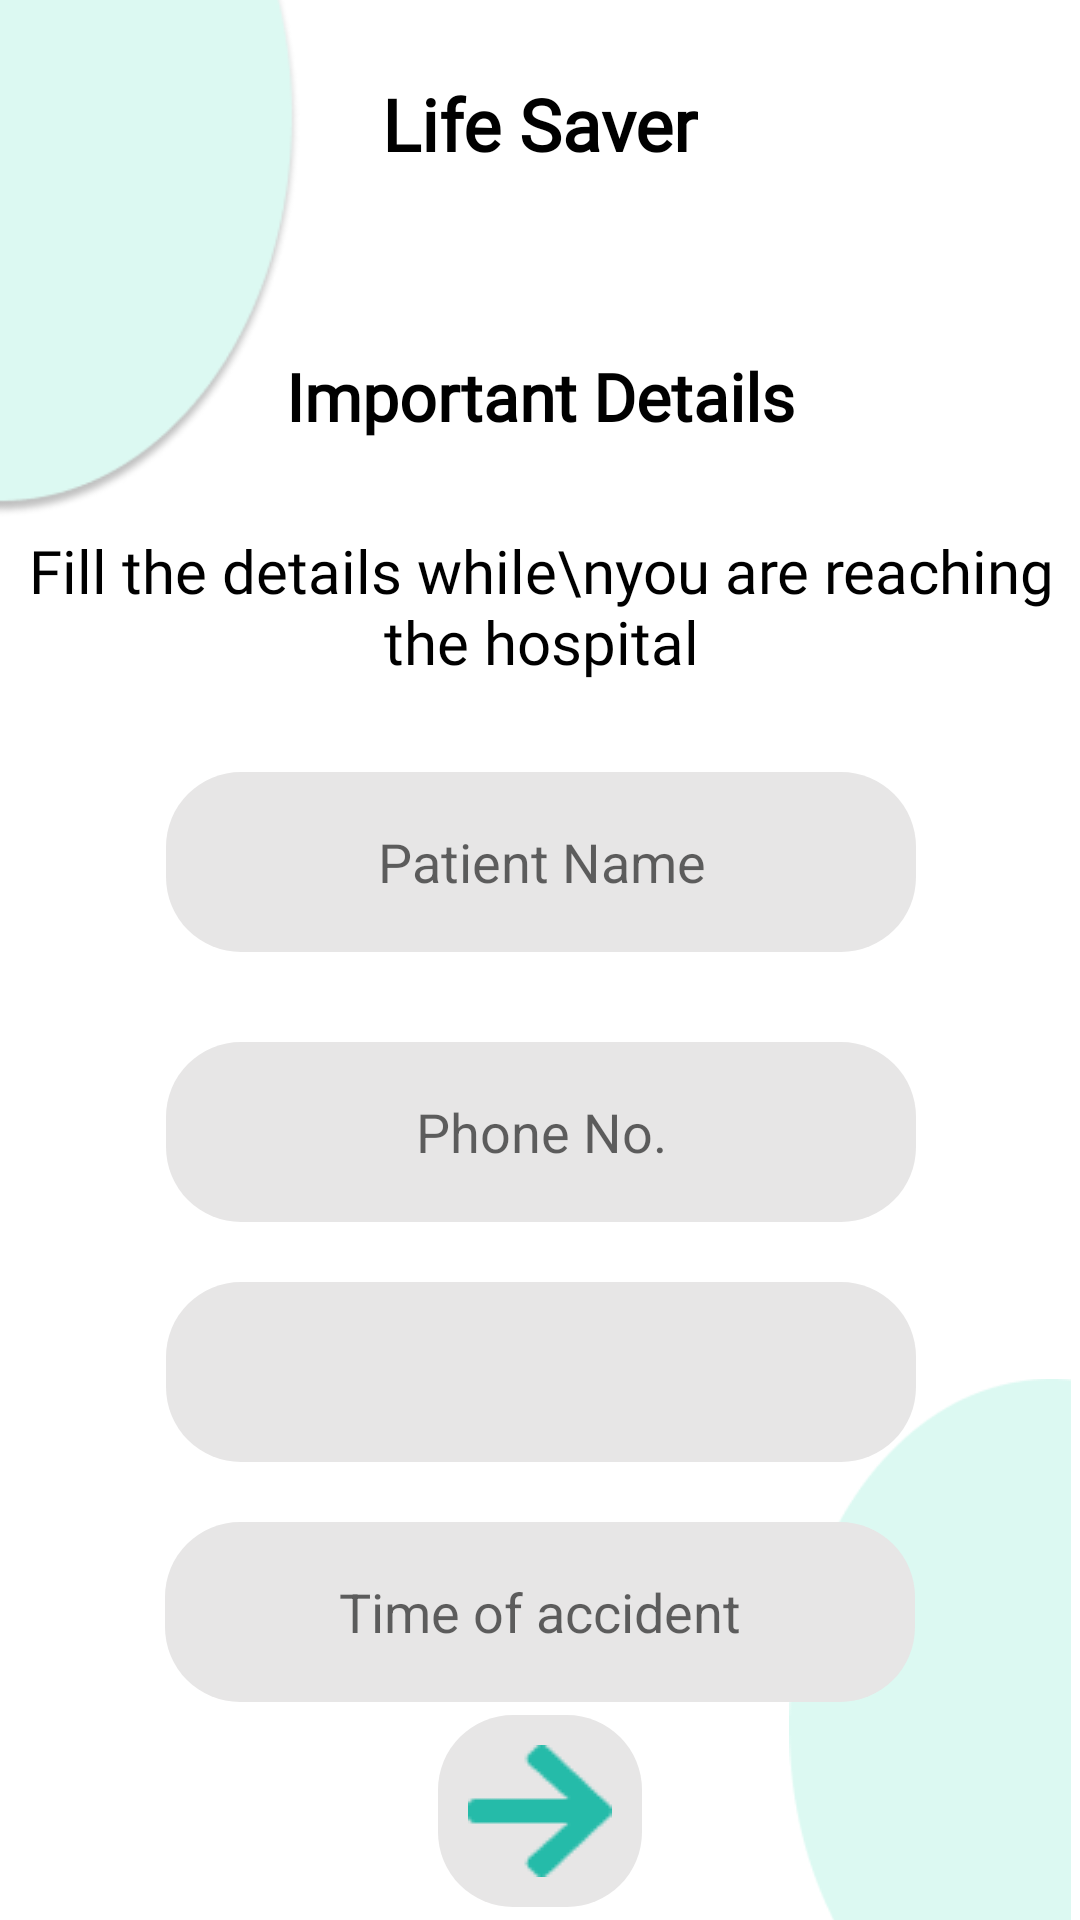

Icons on this 1080×1920 Android screen, each with its box as (left=x1, top=y1, right=x2, bottom=y2):
forward arrow: (left=438, top=1715, right=642, bottom=1907)
